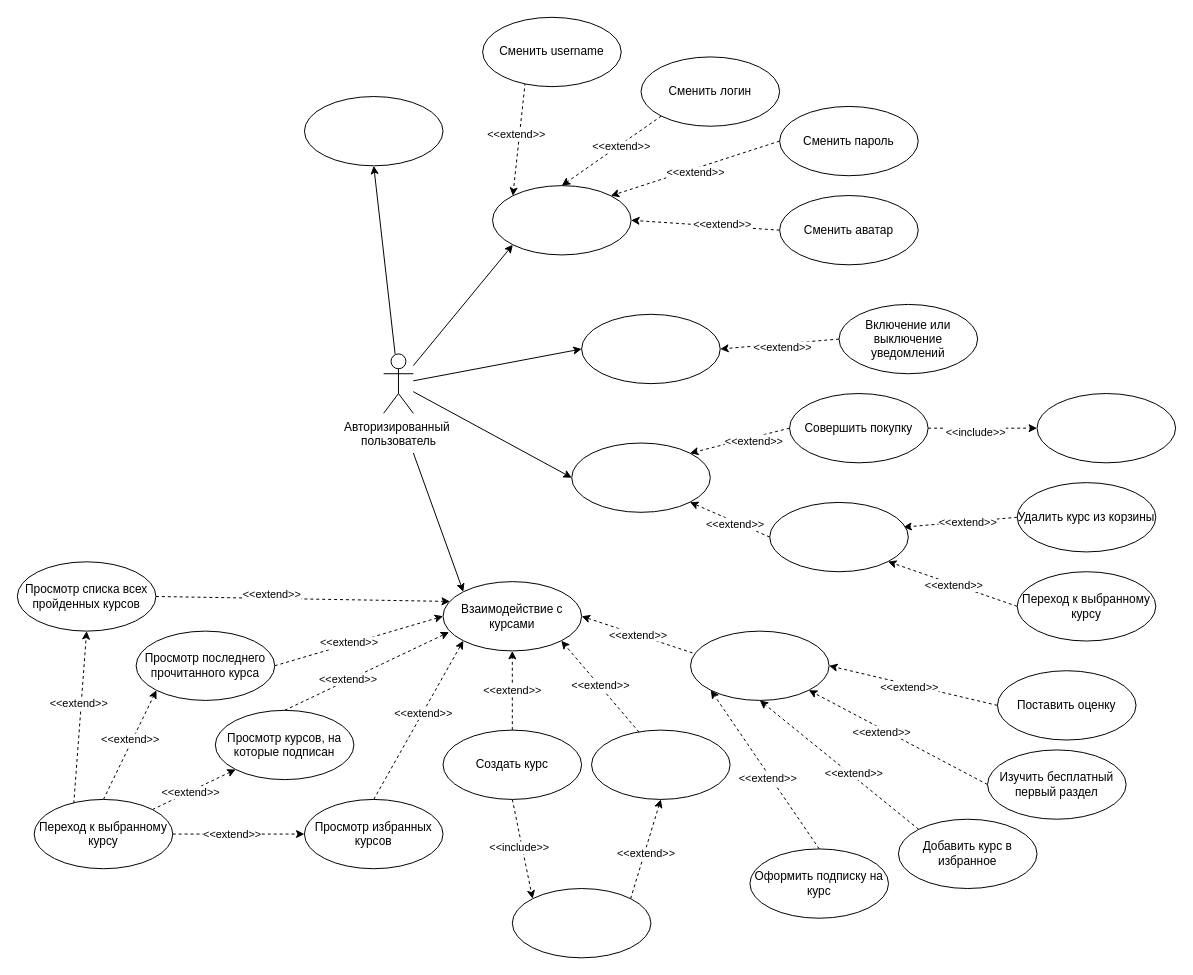
The diagram is 1193 pixels wide and 975 high, and some of its shapes have lost their labels. Each missing label, with the centre of its shape:
Взаимодействие с корзиной: point (640, 477)
Взаимодействие с редактором курса: point (581, 923)
Выйти из учётной записи: point (373, 131)
Настроить приложение: point (650, 348)
Переход к окну транзакции: point (1106, 428)
Просмотр главного окна курса: point (759, 665)
Просмотр списка добавленных курсов: point (838, 536)
Просмотр списка собственных курсов: point (660, 764)
Редактировать аккаунт: point (561, 220)
